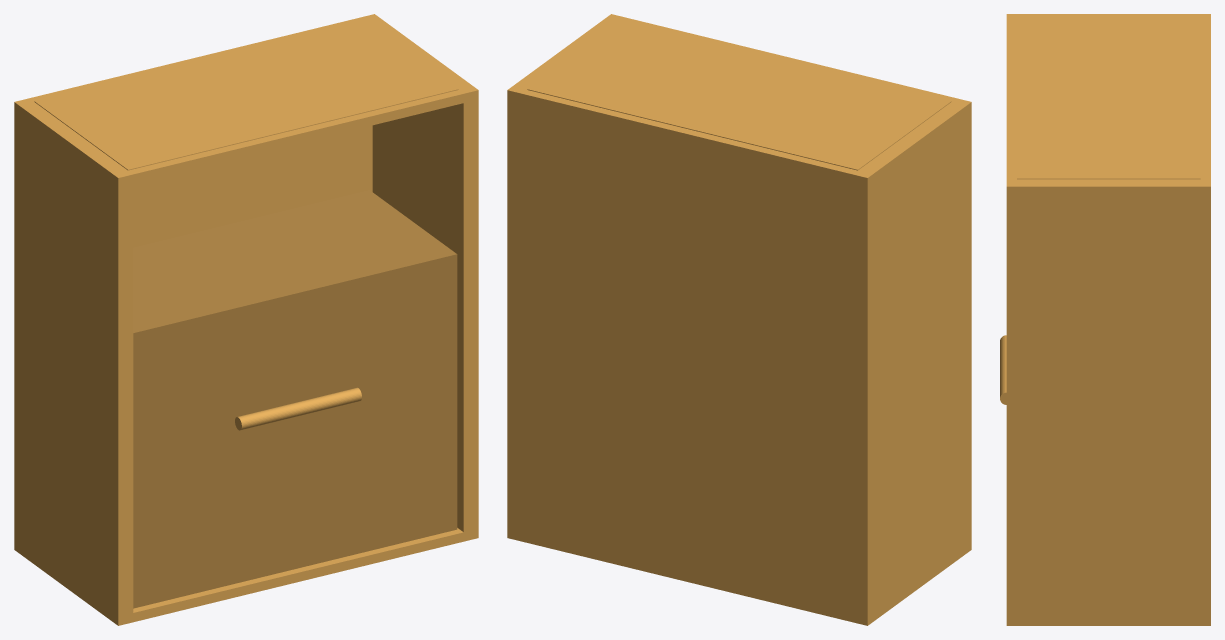
File: ichago drawer (3).fbx
3 views of the same model, side by side, from view 1: azimuth 30°, elevation 25°; view 2: azimuth 150°, elevation 25°; view 3: azimuth 270°, elevation 25° (orthographic).
Visible parts, largest first — view 1: Big_Drawer, Cabinet_Frame, Bookshelf_3, Drawer_Handle; view 2: Cabinet_Frame, Bookshelf_3; view 3: Cabinet_Frame, Bookshelf_3, Drawer_Handle.
Boxes of the visible parts, x1,y1,x2,y2 form: Big_Drawer: (133, 190, 457, 608); Cabinet_Frame: (14, 14, 478, 625); Bookshelf_3: (34, 20, 458, 170); Drawer_Handle: (235, 387, 361, 430); Cabinet_Frame: (507, 14, 971, 625); Bookshelf_3: (527, 20, 951, 170); Cabinet_Frame: (1006, 14, 1210, 625); Bookshelf_3: (1017, 20, 1200, 179); Drawer_Handle: (1000, 335, 1006, 404).
Bounding box in the file's own units: 1.2 × 1.43 × 0.62.
